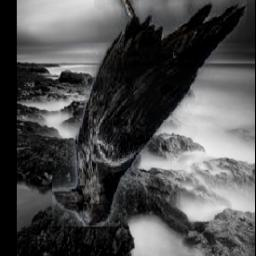Crow: (53, 0, 248, 228)
